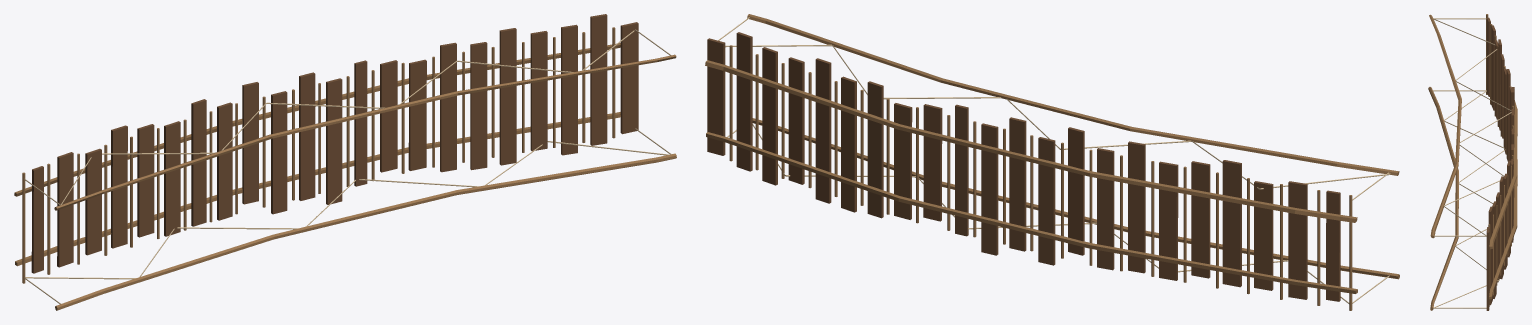
File: Bridge_8m_02.fbx
3 views of the same model, side by side, from view 1: azimuth 30°, elevation 25°; view 2: azimuth 150°, elevation 25°; view 3: azimuth 270°, elevation 25° (orthographic). The views are drawn at different scales.
Visible parts, largest first — view 1: Bridge 8 m. 2; view 2: Bridge 8 m. 2; view 3: Bridge 8 m. 2.
Boxes of the visible parts, x1,y1,x2,y2 form: Bridge 8 m. 2: (14, 14, 676, 310); Bridge 8 m. 2: (705, 14, 1399, 310); Bridge 8 m. 2: (1428, 14, 1517, 310).
Bounding box in the file's own units: 982 × 209 × 168.
